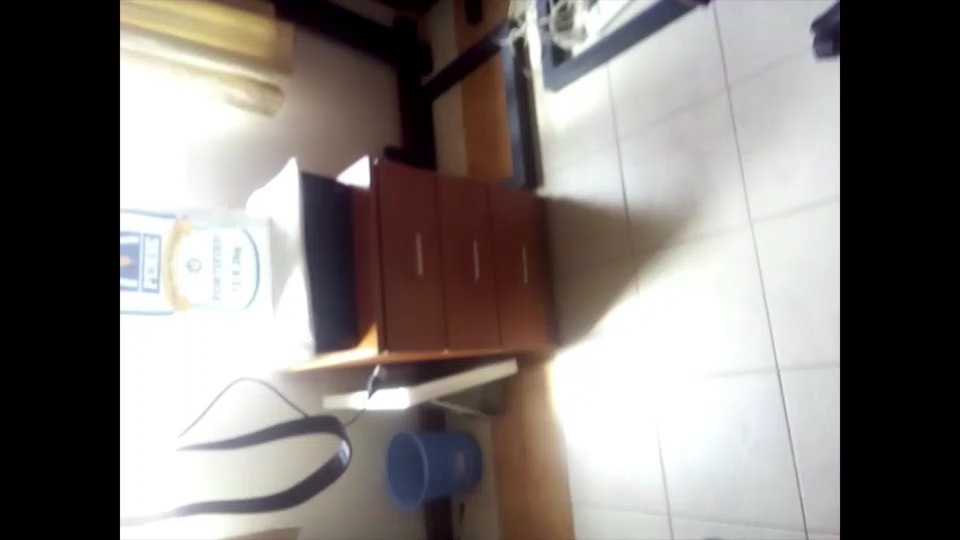wheat_flour_blue_label: (119, 202, 274, 307)
